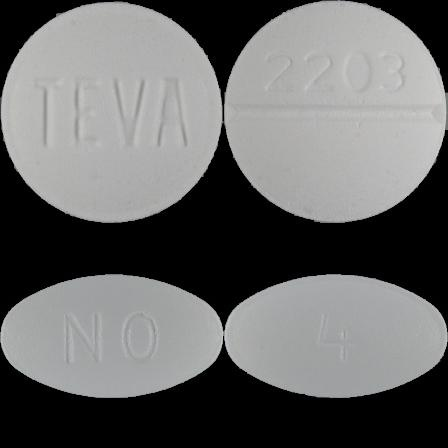63187-235: (0, 0, 224, 224)
